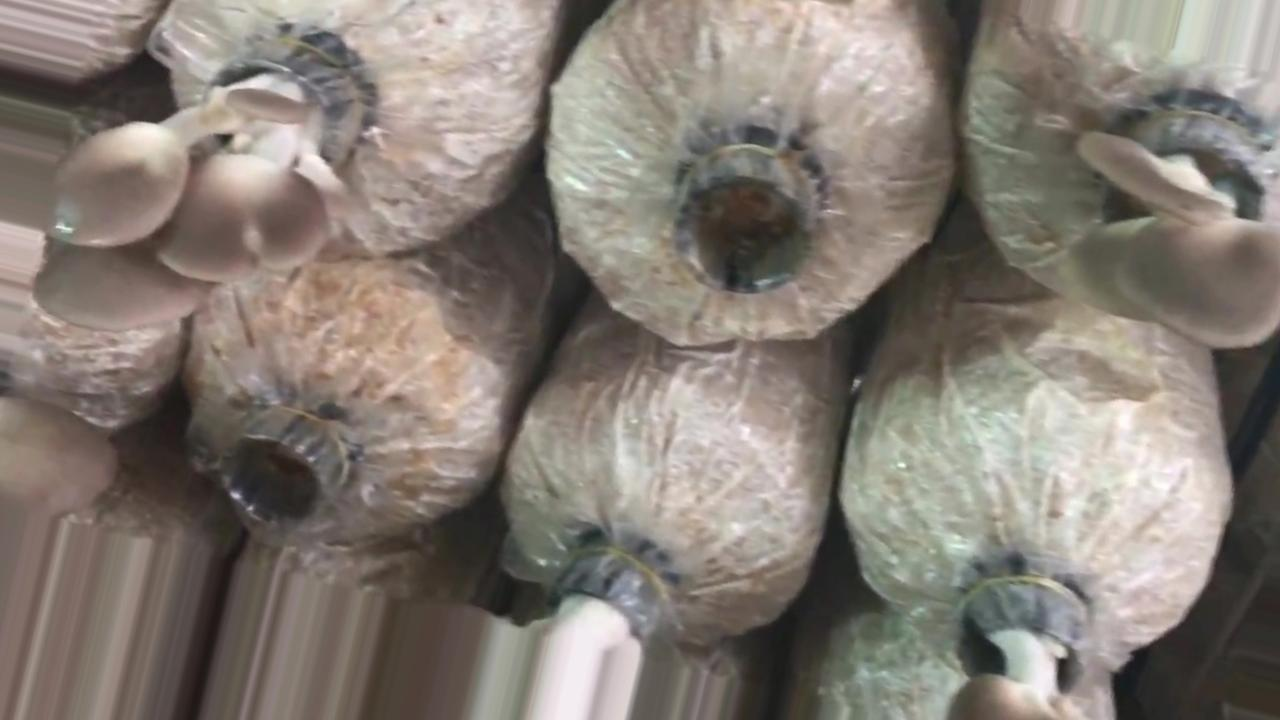nam: (30, 52, 356, 334), (1071, 96, 1280, 349), (949, 552, 1076, 720)
